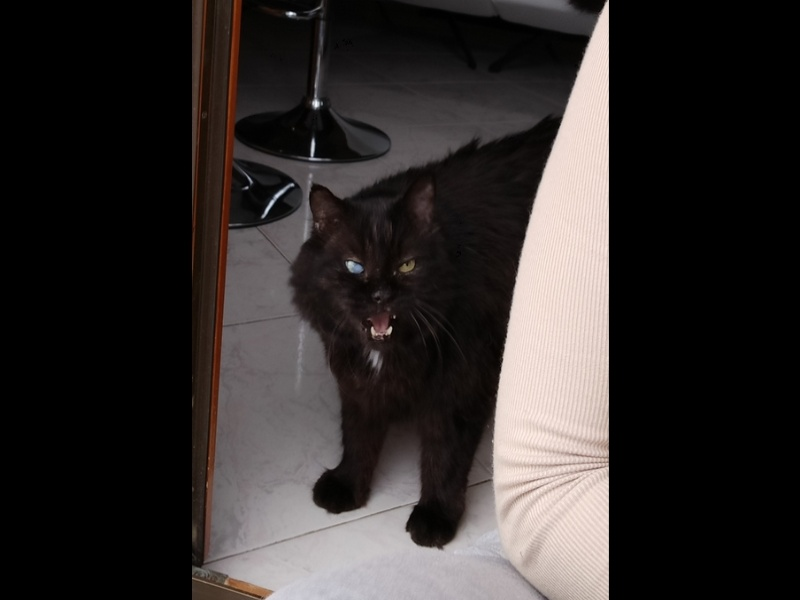cat: (290, 100, 575, 553)
